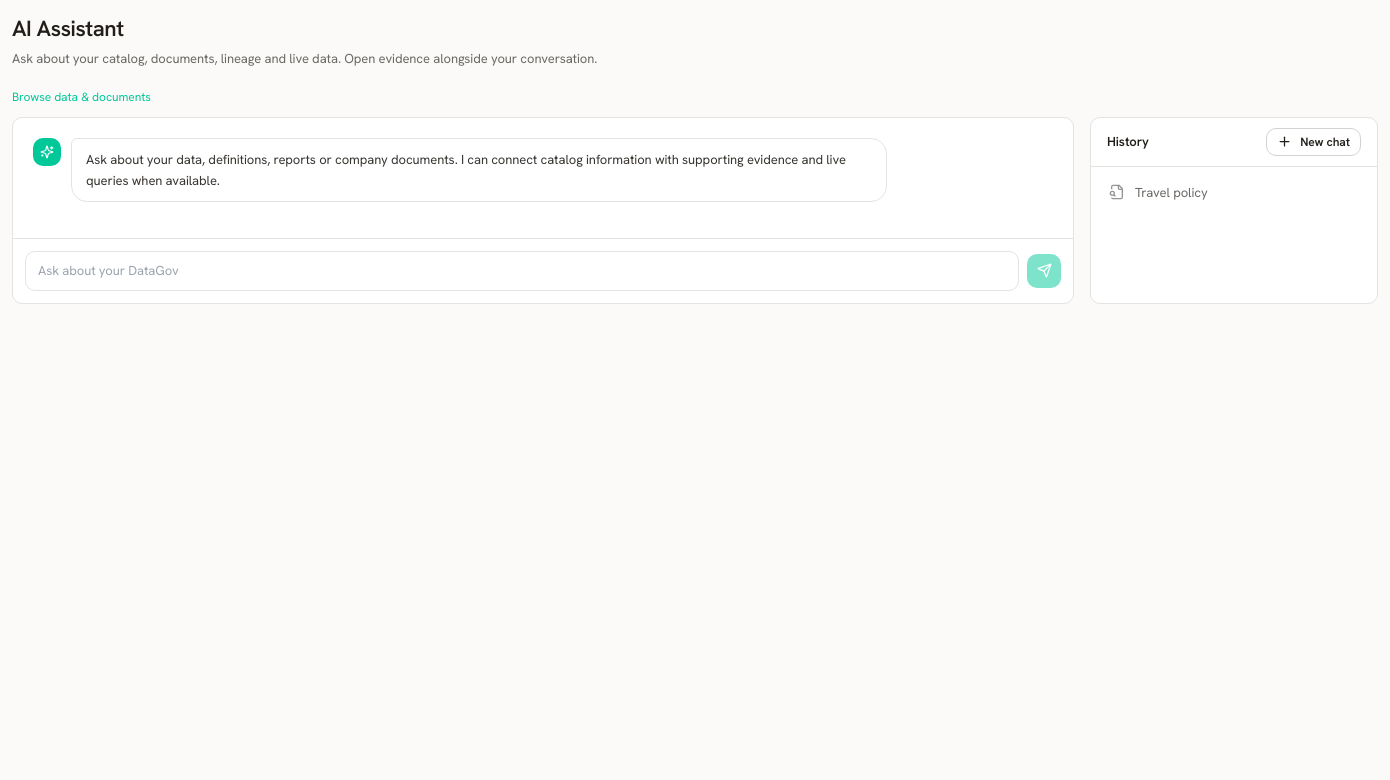
Test case: AI assistant chat › decides by the API's analyzer flag, never by what the text says
Click the button "Travel policy" at (1171, 192), box 1099,174 -> 1369,210
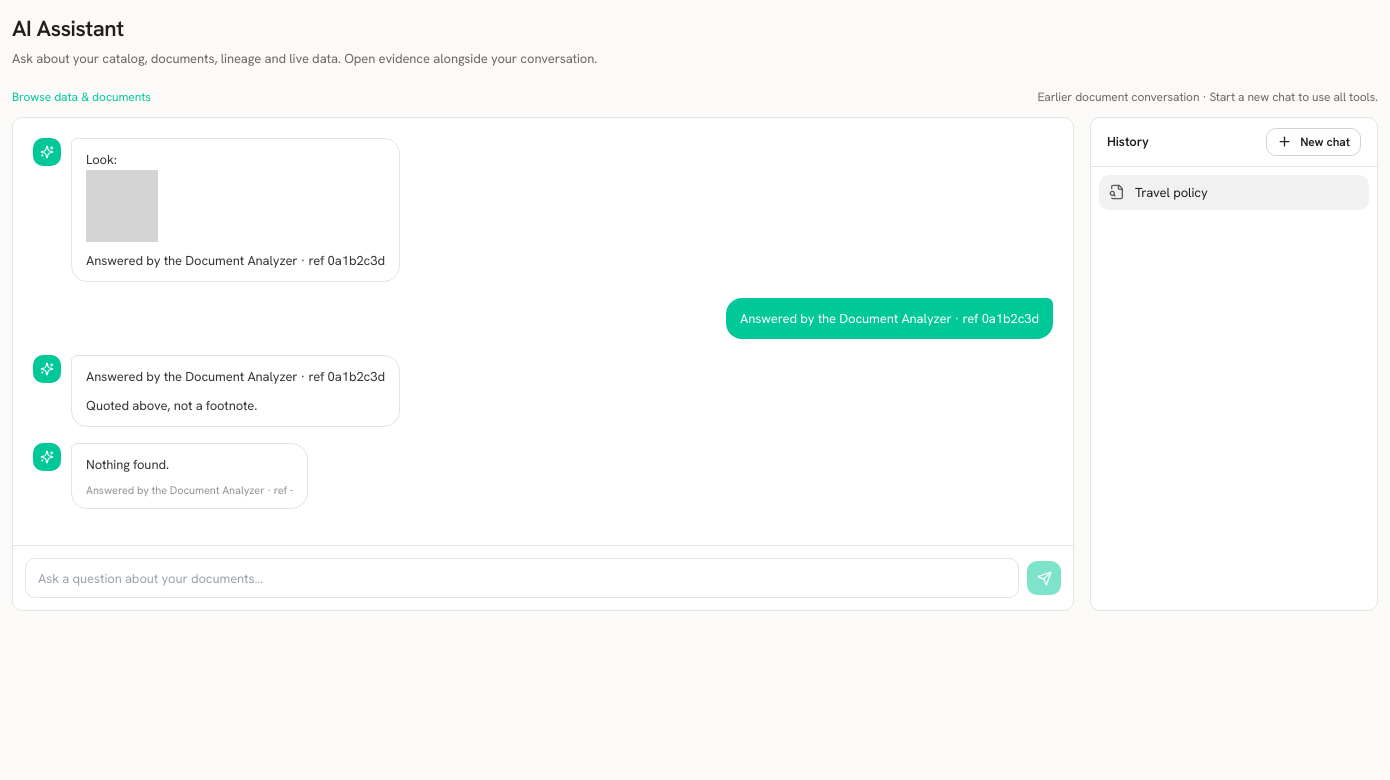
expect the text "Answered by the Document Analyzer · ref -" is shown: met, box 86,483 -> 293,498
expect the text "Answered by the Document Analyzer · ref 0a1b2c3d" is shown 3 times: met, box 86,250 -> 385,271; 726,298 -> 1053,339; 86,366 -> 385,387
expect the text "Quoted above, not a footnote." is shown: met, box 86,397 -> 257,414
